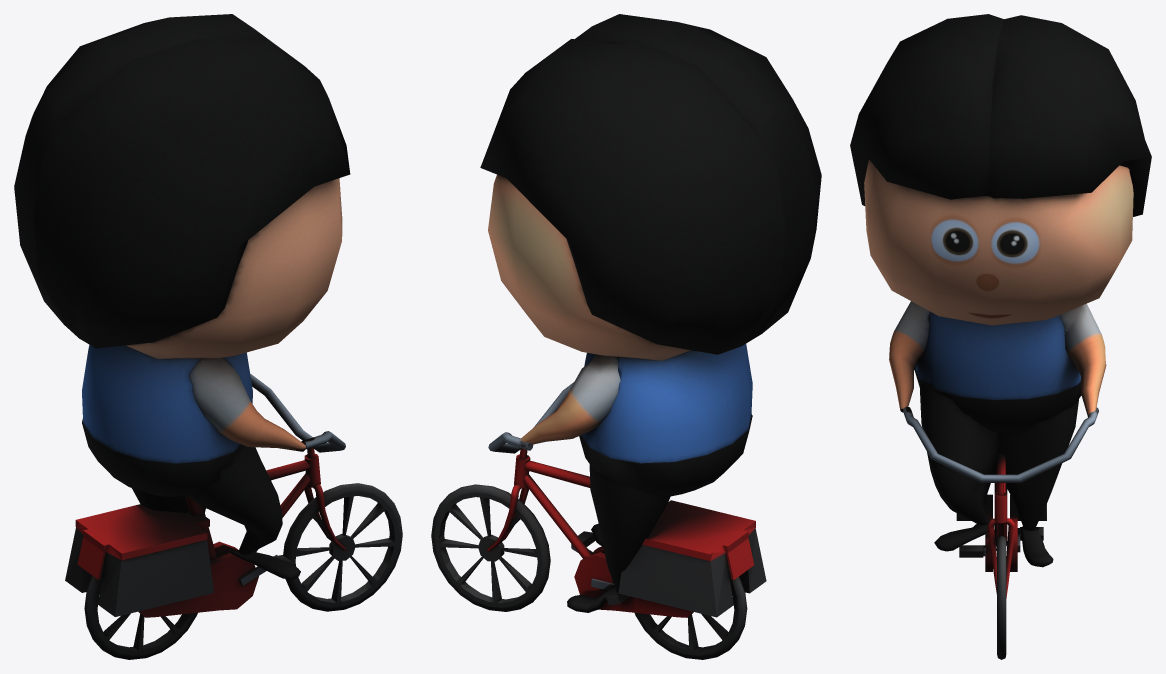
The model's file is bici.FBX.
3 renders of one model, left to right at view 1: azimuth 30°, elevation 25°; view 2: azimuth 150°, elevation 25°; view 3: azimuth 270°, elevation 25°, orthographic. The views are drawn at different scales.
Parts seen in each view (by area): view 1: bici_00; view 2: bici_00; view 3: bici_00.
Part boxes in pixels (x1,y1,x2,y2): bici_00: [14, 14, 402, 659]; bici_00: [431, 14, 821, 659]; bici_00: [850, 14, 1151, 659].
Bounding box in the file's own units: 7.47 × 11.98 × 5.95.
